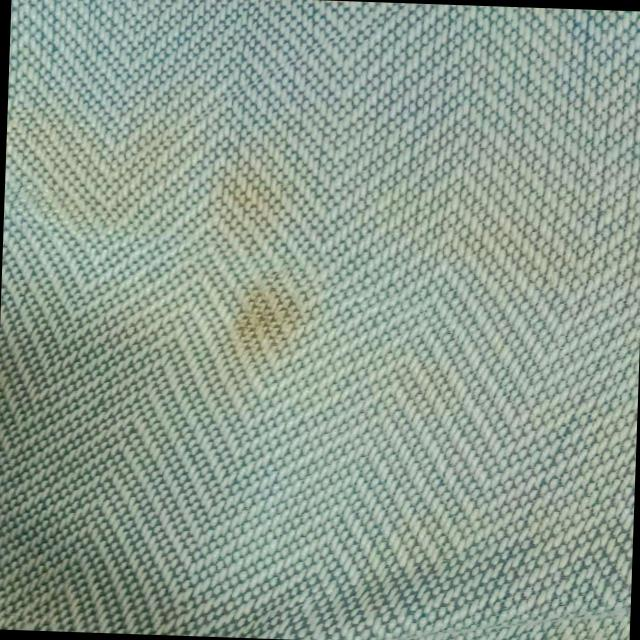stain: (21, 92, 316, 246), (218, 270, 334, 368)
